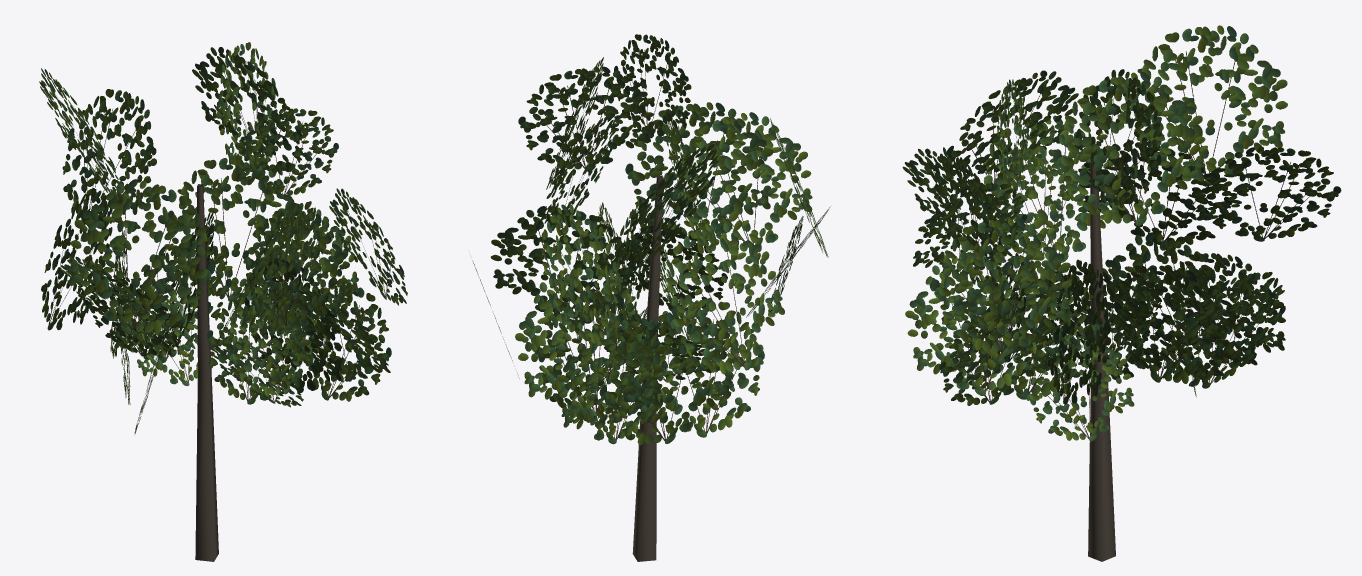
File: tpl_westdike_dike_elm_lo.glb
3 views of the same model, side by side, from view 1: azimuth 30°, elevation 25°; view 2: azimuth 150°, elevation 25°; view 3: azimuth 270°, elevation 25° (orthographic). The views are drawn at different scales.
Visible parts, largest first — view 1: tpl_westdike_dike_elm_lo; view 2: tpl_westdike_dike_elm_lo; view 3: tpl_westdike_dike_elm_lo.
Boxes of the visible parts, <box> form: tpl_westdike_dike_elm_lo: <box>39,42,407,561</box>; tpl_westdike_dike_elm_lo: <box>472,34,830,561</box>; tpl_westdike_dike_elm_lo: <box>902,25,1341,561</box>.
Bounding box in the file's own units: 14.77 × 20.57 × 17.15.
2 materials, 1 textured.
